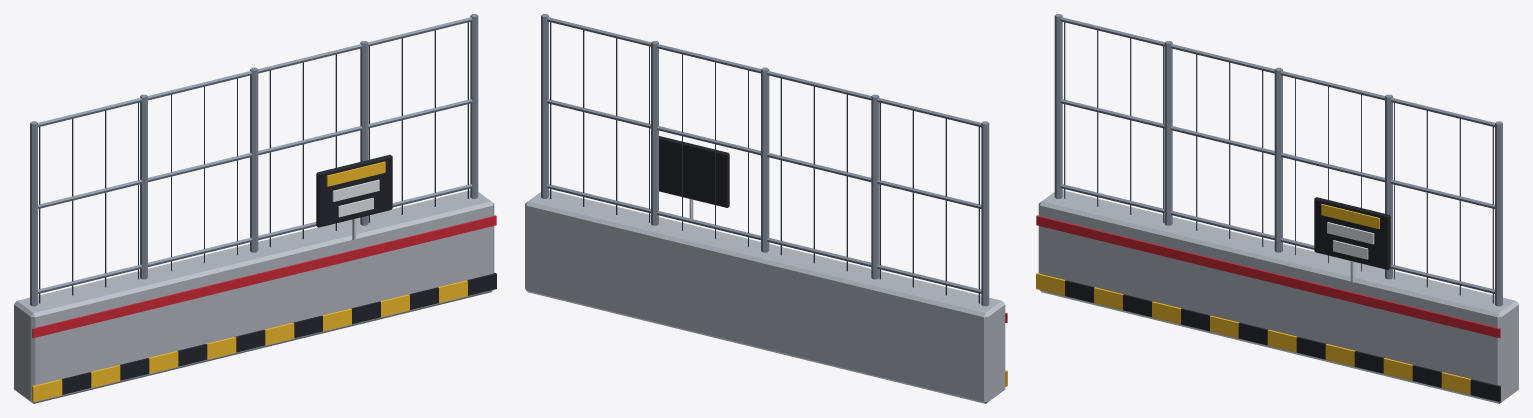
The model's file is PitWall.fbx.
The picture shows the model from 3 angles, left to right: view 1: azimuth 30°, elevation 25°; view 2: azimuth 150°, elevation 25°; view 3: azimuth 330°, elevation 25°; orthographic projection.
Visible parts, largest first — view 1: PitWall; view 2: PitWall; view 3: PitWall.
Boxes of the visible parts, x1,y1,x2,y2 form: PitWall: (14,14,496,403); PitWall: (525,14,1007,403); PitWall: (1036,14,1518,403).
Size of the model in its own units: 16 by 9 by 1.53.
1 material, 1 textured.
